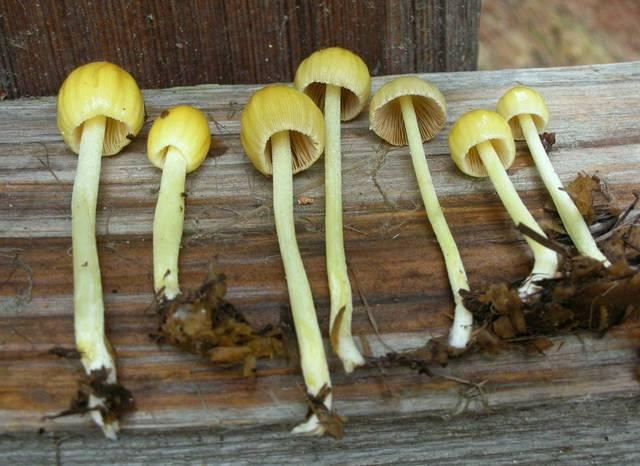edible_mushroom: (44, 59, 145, 440), (239, 82, 345, 439), (367, 74, 474, 352), (292, 45, 371, 374), (447, 107, 560, 301), (495, 84, 611, 270), (145, 103, 211, 306)
